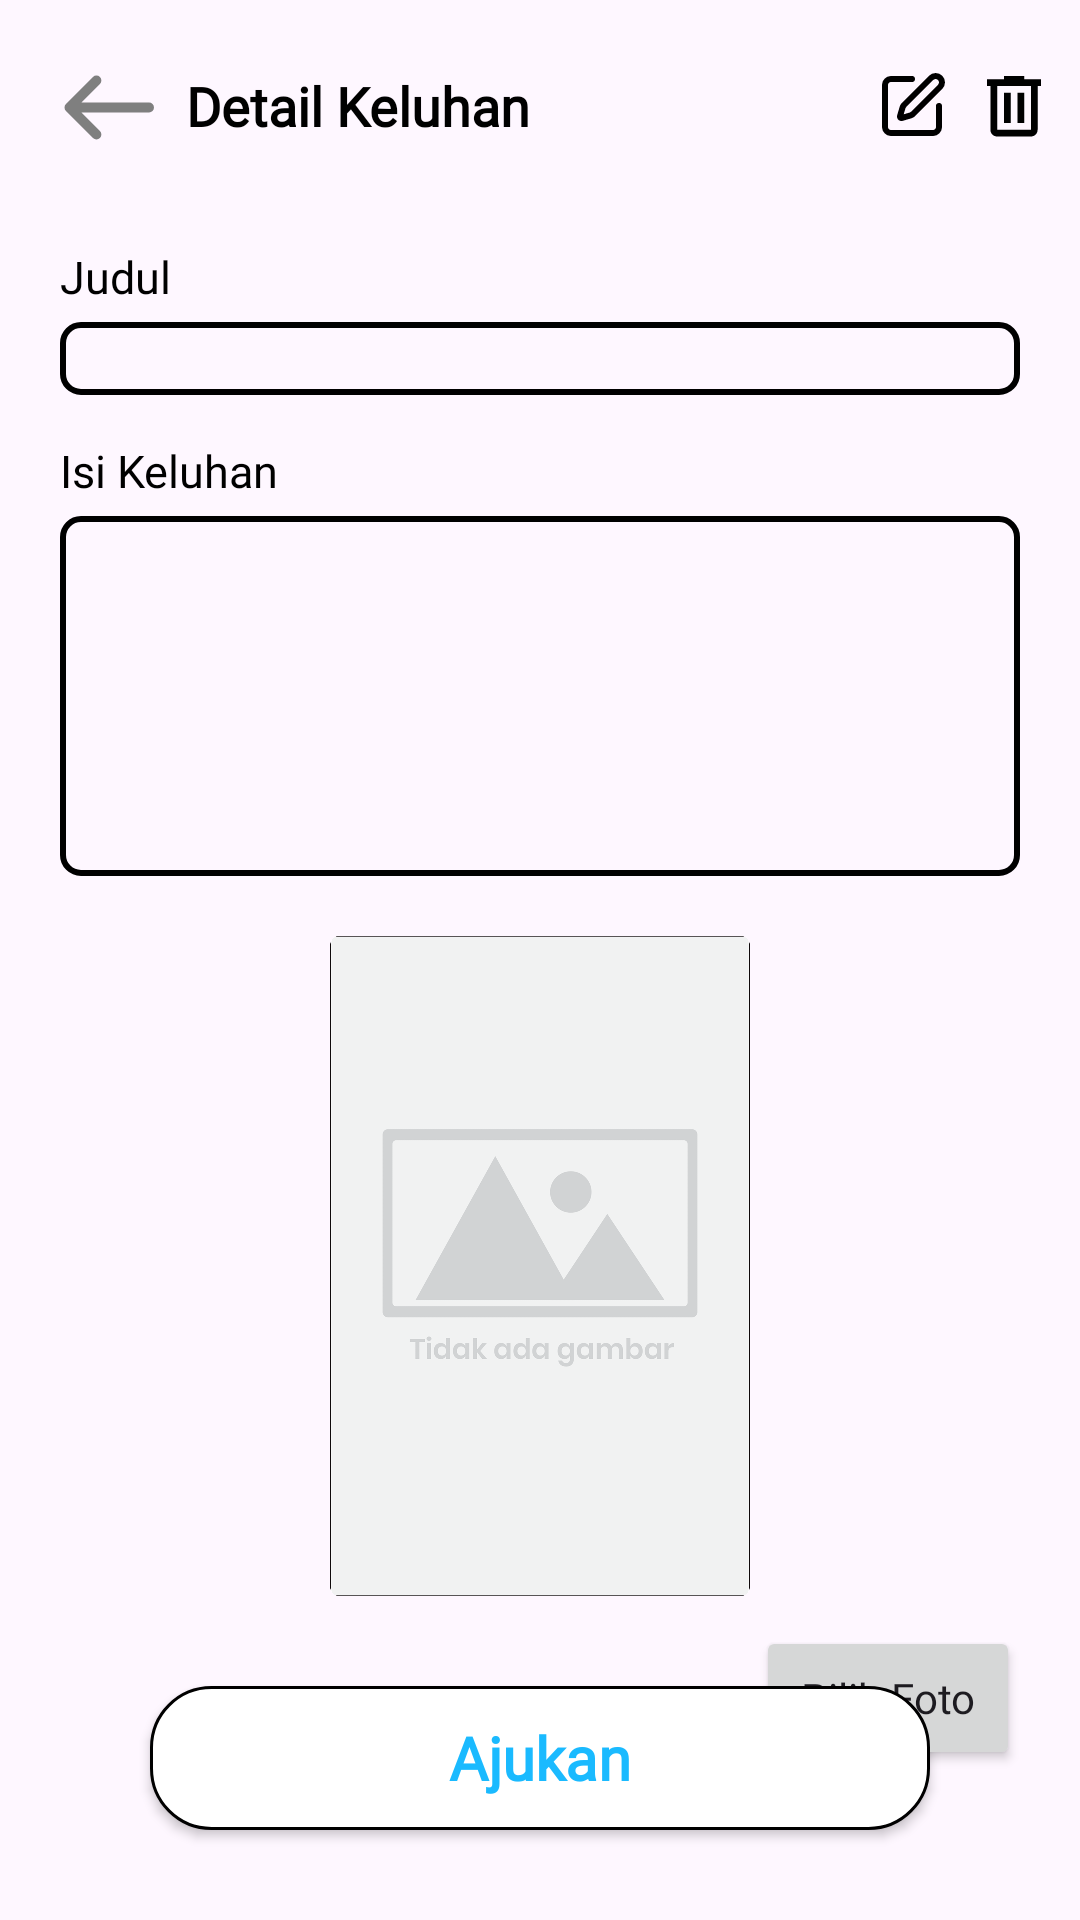

Screen size 1080 × 1920. Icon name, then its box in pixels as (x1, y1, x2, y2):
back: (64, 75, 154, 140)
delete surat: (987, 76, 1041, 137)
edit: (882, 73, 945, 136)
